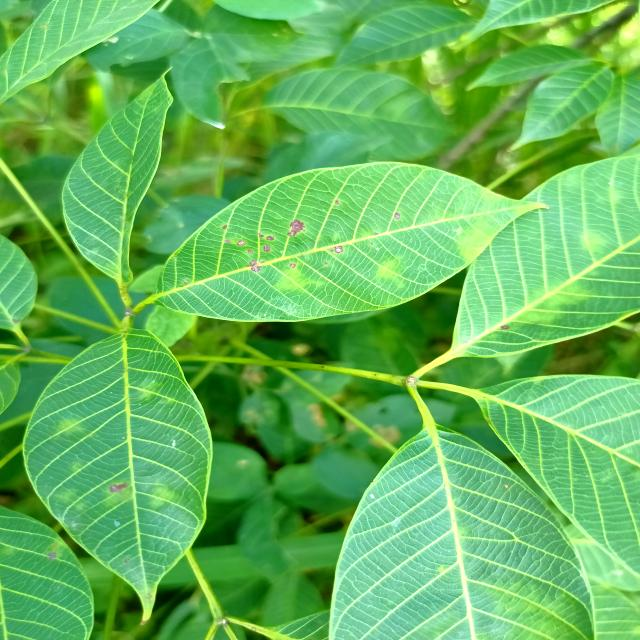Colletotrichum: (110, 483, 127, 492), (48, 552, 58, 560), (236, 240, 246, 246), (335, 246, 343, 253), (394, 212, 400, 220), (263, 246, 270, 252), (290, 263, 296, 268), (247, 249, 253, 254), (267, 236, 274, 240), (222, 226, 228, 230), (224, 240, 231, 243), (262, 245, 263, 245)
